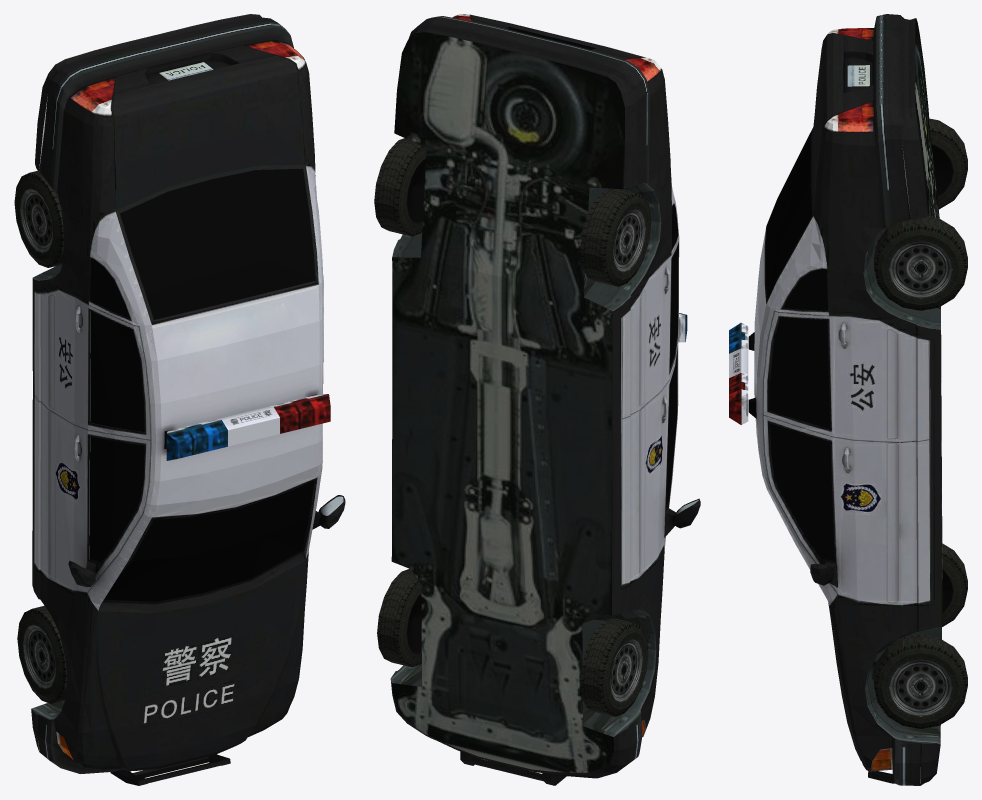
Rendered from car3d.gltf.
3 renders of one model, left to right at view 1: azimuth 30°, elevation 25°; view 2: azimuth 150°, elevation 25°; view 3: azimuth 270°, elevation 25°, orthographic. The views are drawn at different scales.
Visible parts, largest first — view 1: Mesh01, ID57, ID157, ID314, ID286, ID189, ID197, ID328, ID129, ID83, ID278; view 2: ID83, Mesh01, ID328, ID197, ID376, ID242, ID286, ID314; view 3: Mesh01, ID376, ID242, ID83, ID63, ID77, ID57, ID328, ID189, ID197, ID28, ID384.
Boxes of the visible parts, bbox=[...] form: Mesh01: bbox=[31, 14, 323, 773]; ID57: bbox=[120, 168, 315, 319]; ID157: bbox=[104, 481, 314, 601]; ID314: bbox=[90, 311, 144, 432]; ID286: bbox=[89, 436, 144, 562]; ID189: bbox=[166, 394, 330, 460]; ID197: bbox=[17, 605, 67, 703]; ID328: bbox=[14, 170, 63, 267]; ID129: bbox=[90, 258, 130, 318]; ID83: bbox=[31, 265, 64, 719]; ID278: bbox=[318, 495, 345, 528]; ID83: bbox=[390, 32, 661, 772]; Mesh01: bbox=[390, 14, 679, 778]; ID328: bbox=[580, 188, 651, 286]; ID197: bbox=[580, 618, 648, 716]; ID376: bbox=[374, 138, 426, 236]; ID242: bbox=[377, 568, 421, 667]; ID286: bbox=[666, 353, 677, 507]; ID314: bbox=[670, 244, 678, 369]; Mesh01: bbox=[754, 14, 942, 785]; ID376: bbox=[874, 216, 967, 310]; ID242: bbox=[874, 634, 967, 728]; ID83: bbox=[863, 18, 942, 768]; ID63: bbox=[769, 317, 829, 428]; ID77: bbox=[770, 423, 834, 560]; ID57: bbox=[766, 131, 811, 298]; ID328: bbox=[929, 118, 967, 209]; ID189: bbox=[729, 322, 748, 424]; ID197: bbox=[942, 543, 967, 626]; ID28: bbox=[783, 269, 827, 310]; ID384: bbox=[847, 65, 869, 86].
Size of the model in its own units: 2.28 by 5.83 by 1.79.
52 materials, 35 textured.
